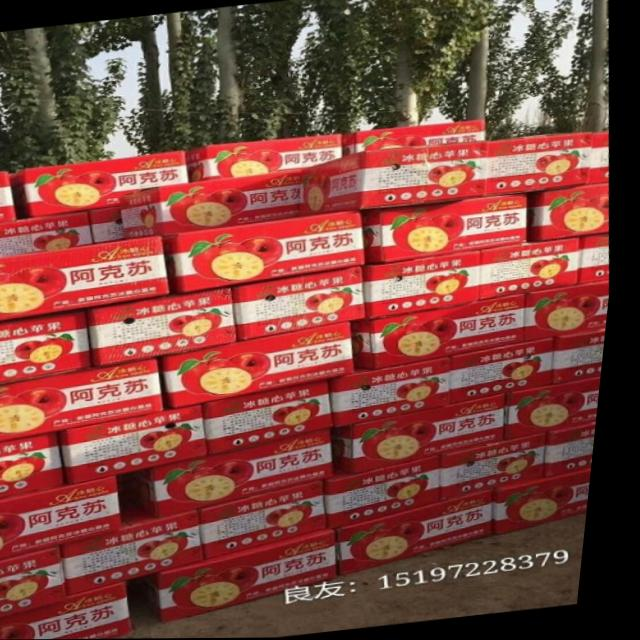box: (152, 528, 349, 624), (140, 428, 345, 519), (165, 322, 363, 408), (167, 210, 372, 293), (0, 236, 176, 321), (0, 356, 171, 443), (304, 140, 492, 216), (339, 394, 514, 475), (348, 488, 505, 576), (71, 509, 218, 597), (357, 295, 531, 369), (122, 170, 305, 239), (14, 150, 193, 219), (93, 287, 246, 367), (66, 403, 216, 484), (365, 193, 533, 263), (0, 475, 133, 562), (210, 480, 339, 559), (211, 379, 343, 455), (238, 266, 372, 340), (362, 250, 487, 322), (335, 357, 458, 428), (334, 455, 451, 529), (0, 582, 147, 640), (188, 134, 345, 183), (450, 432, 558, 501), (0, 310, 99, 385), (458, 337, 561, 405), (491, 132, 597, 196), (504, 468, 601, 535), (485, 238, 584, 301), (513, 377, 609, 440), (0, 545, 80, 620), (345, 119, 489, 157), (0, 430, 76, 500), (530, 281, 615, 342), (532, 182, 614, 242), (0, 211, 98, 257), (560, 329, 613, 385), (555, 423, 605, 477), (584, 235, 615, 285), (94, 206, 130, 243), (0, 171, 21, 222), (593, 132, 612, 184)
